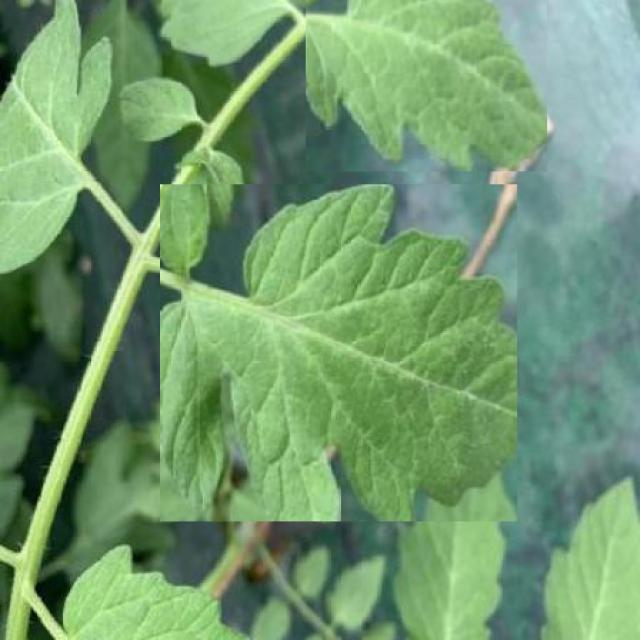Healthy: (160, 185, 517, 522), (305, 0, 547, 171), (172, 164, 222, 269)
